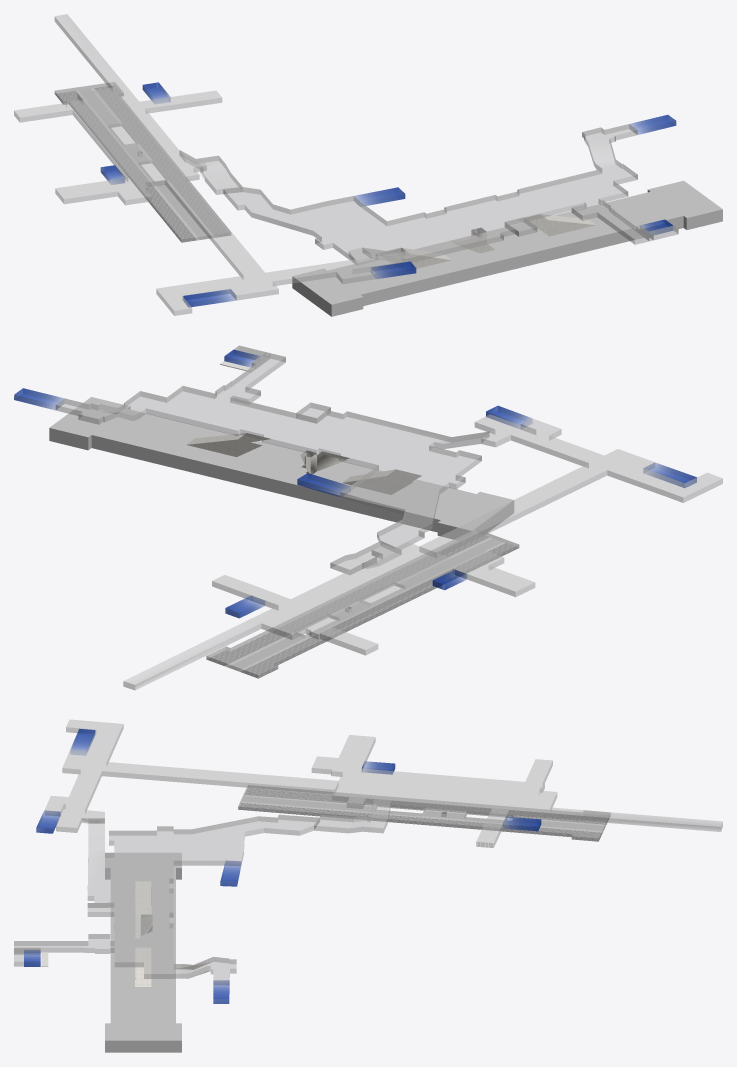
File: dfzmHousetopDraco-opt.glb
3 views of the same model, one above another, from view 1: azimuth 30°, elevation 25°; view 2: azimuth 150°, elevation 25°; view 3: azimuth 270°, elevation 25° (orthographic). The views are drawn at different scales.
Parts seen in each view (by area): view 1: 网格002_1, line1-hall-housetop, 网格5462, 网格7305_1, line1-hall-housetop-005, line3-middle-wall, 网格7305; view 2: 网格002_1, line1-hall-housetop, 网格5462, 网格7305_1, line1-hall-housetop-005, line3-middle-wall, 网格7305; view 3: 网格002_1, line1-hall-housetop, 网格5462, 网格7305_1, line1-hall-housetop-005, line3-middle-wall, 网格7305.
Boxes of the visible parts, box(x1,y1,x2,y2) form: 网格002_1: box(54, 82, 678, 265); line1-hall-housetop: box(14, 14, 403, 315); 网格5462: box(292, 180, 722, 316); 网格7305_1: box(55, 85, 230, 242); line1-hall-housetop-005: box(100, 82, 676, 307); line3-middle-wall: box(383, 214, 595, 270); 网格7305: box(79, 89, 211, 239); 网格002_1: box(55, 345, 519, 678); line1-hall-housetop: box(123, 414, 722, 690); 网格5462: box(49, 397, 514, 539); 网格7305_1: box(207, 532, 518, 678); line1-hall-housetop-005: box(14, 349, 696, 618); line3-middle-wall: box(186, 433, 421, 494); 网格7305: box(228, 538, 502, 670); 网格002_1: box(14, 785, 610, 984); line1-hall-housetop: box(45, 719, 722, 847); 网格5462: box(105, 852, 181, 1052); 网格7305_1: box(238, 788, 609, 841); line1-hall-housetop-005: box(24, 728, 541, 1003); line3-middle-wall: box(135, 881, 152, 986); 网格7305: box(242, 796, 605, 831).
Size of the model in its own units: 235 by 24.21 by 255.
12 materials, 8 textured.
